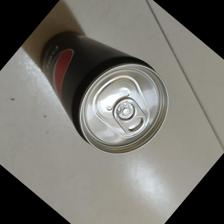Pepsi: (40, 30, 169, 152)
